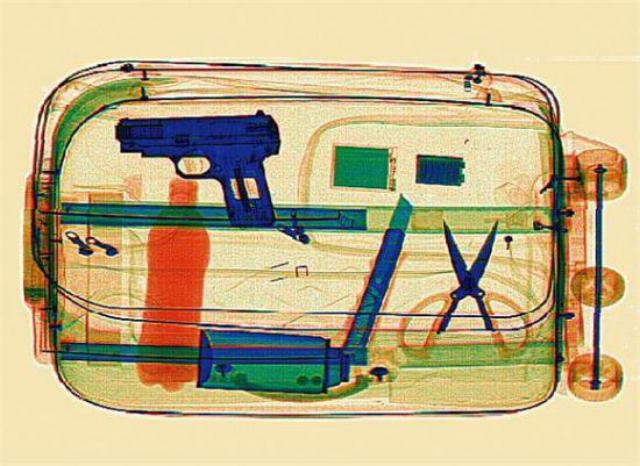Gun: (108, 112, 282, 227)
Knife: (390, 215, 536, 360)
